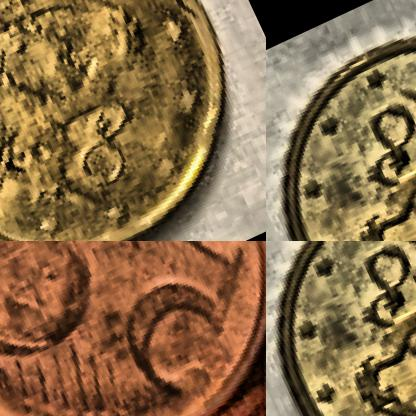coin: (0, 0, 265, 240), (0, 241, 265, 415), (266, 0, 415, 240), (266, 241, 415, 415)
